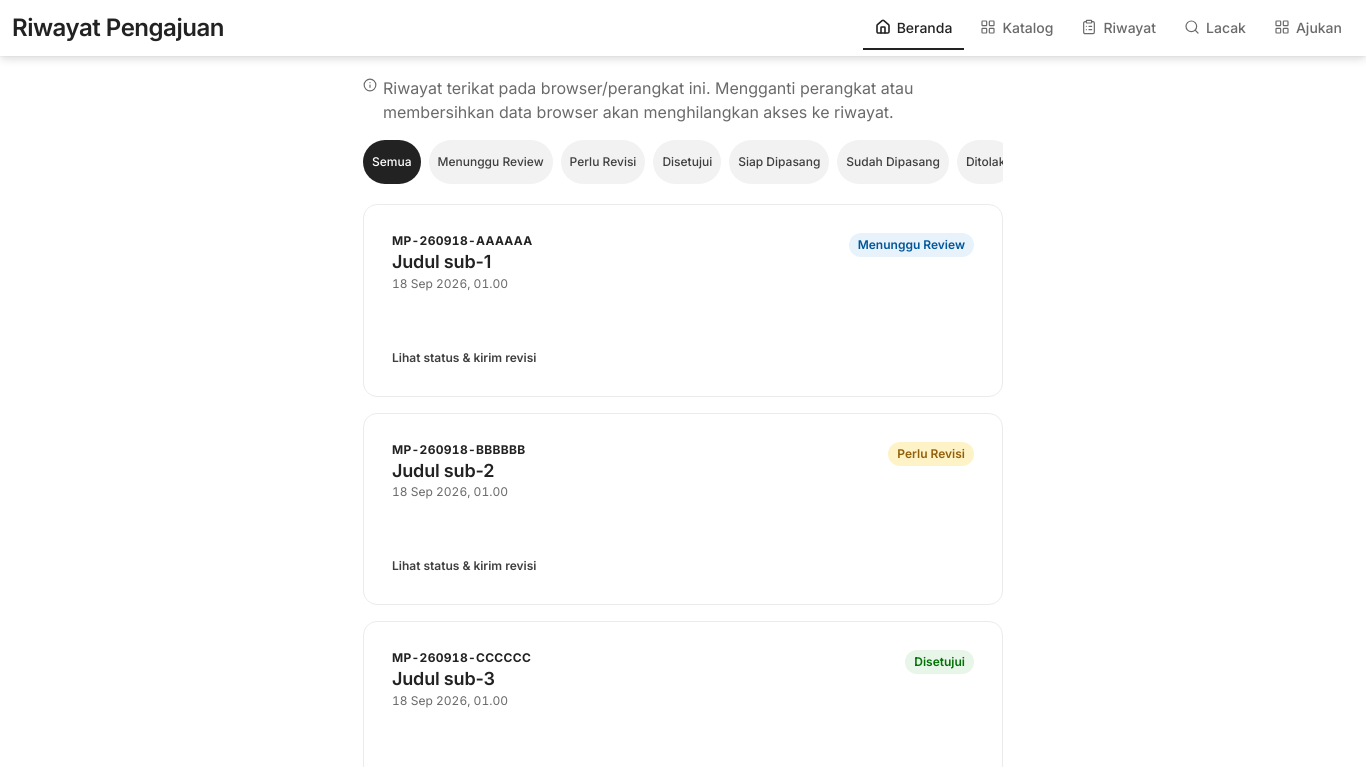
Test: MySubmissionsPage - chip filter status › klik "Semua" lagi → semua baris tampil kembali
Check: the text "MP-260918-AAAAAA" is shown, box [392,233,532,249]
Click the button "Perlu Revisi" at (603, 162), box [561,140,645,184]
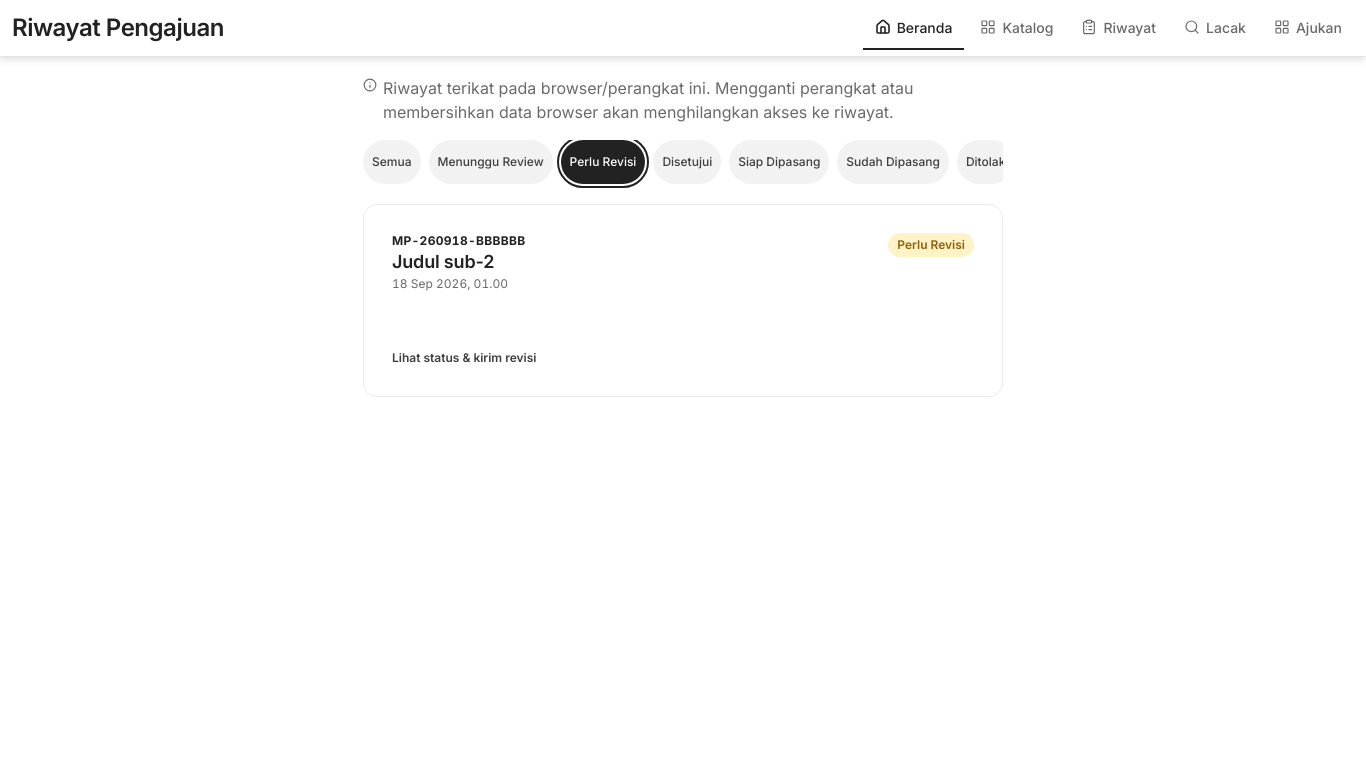
Click the button "Semua" at (392, 162), box [363,140,420,184]
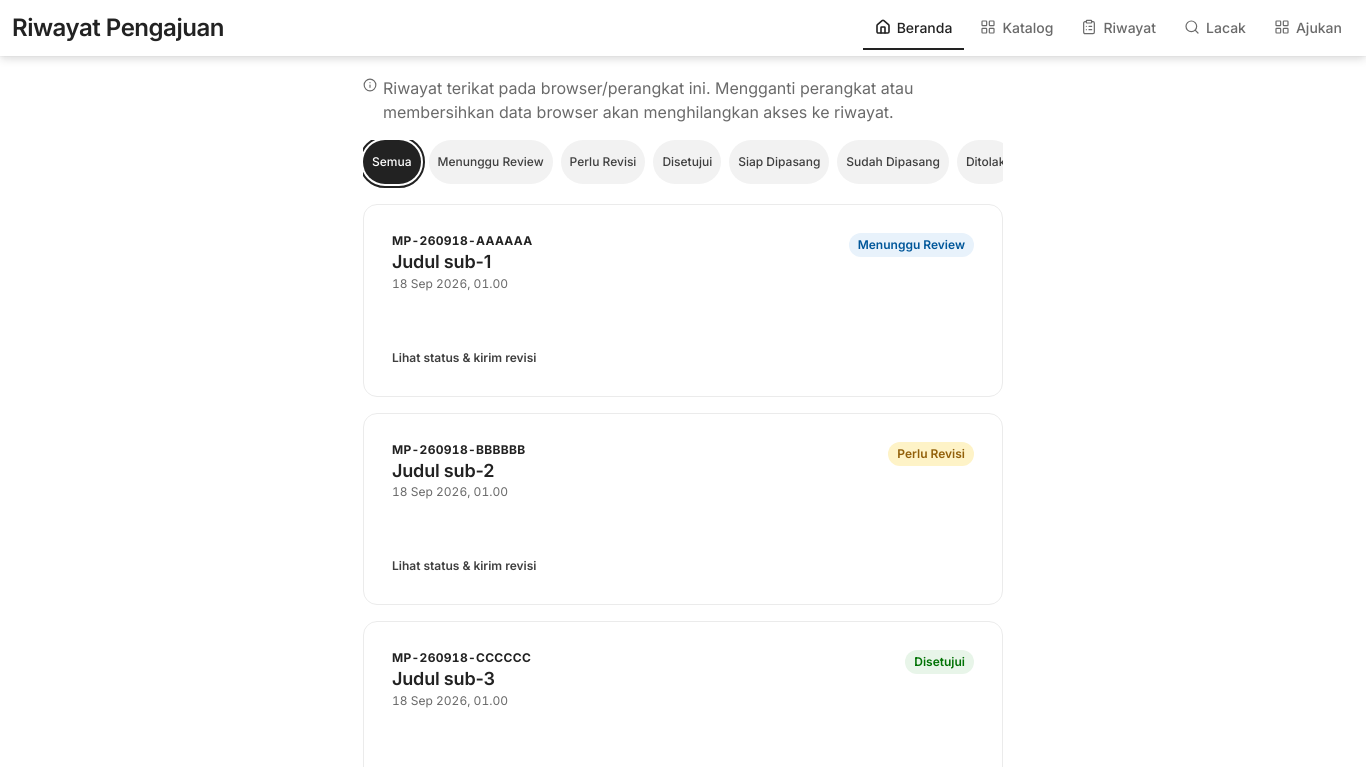
Check: the text "Judul sub-2" is shown, box [392,460,494,480]
Check: the text "Judul sub-1" is shown, box [392,251,491,272]
Check: the text "Judul sub-3" is shown, box [392,668,495,689]
